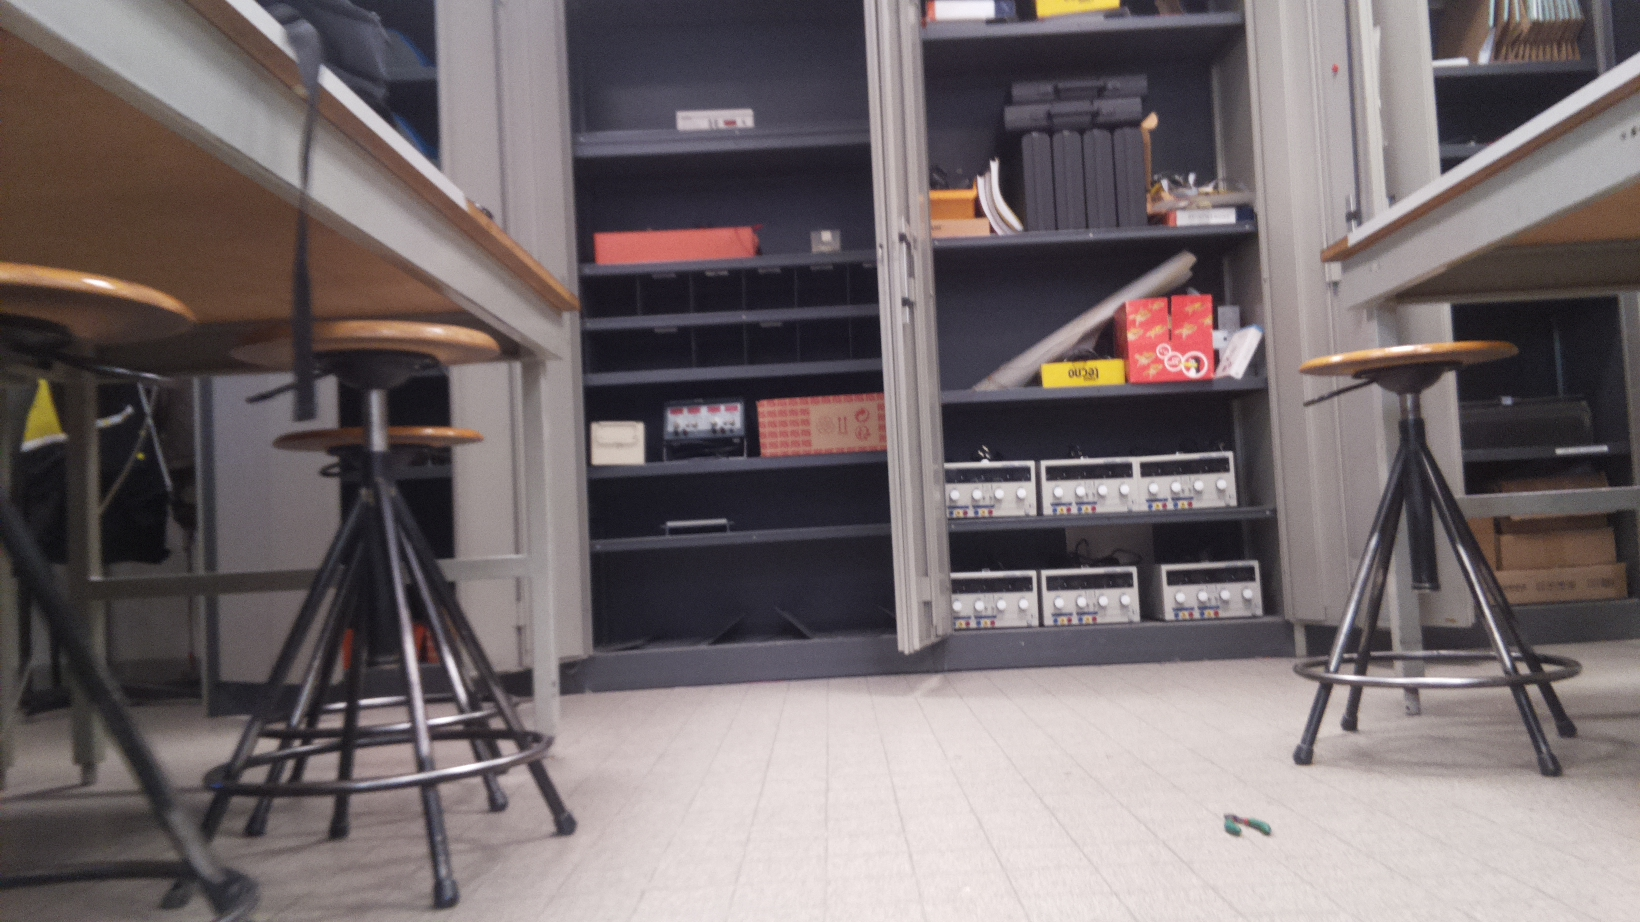small: (1219, 808, 1275, 842)
